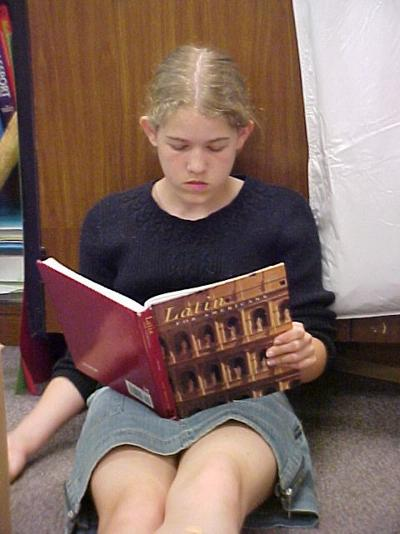person: (1, 47, 338, 533)
